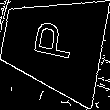P_W: (28, 22, 77, 67)
